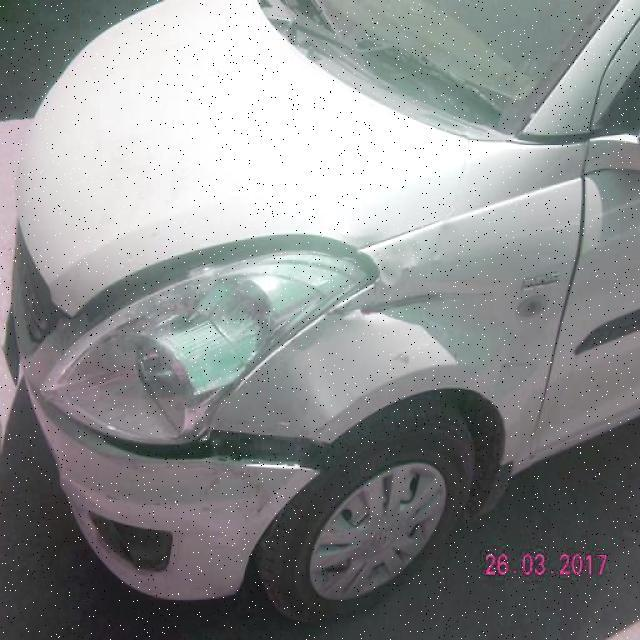car damage: (74, 232, 381, 343), (68, 417, 338, 475), (373, 260, 503, 367), (335, 290, 496, 319)
